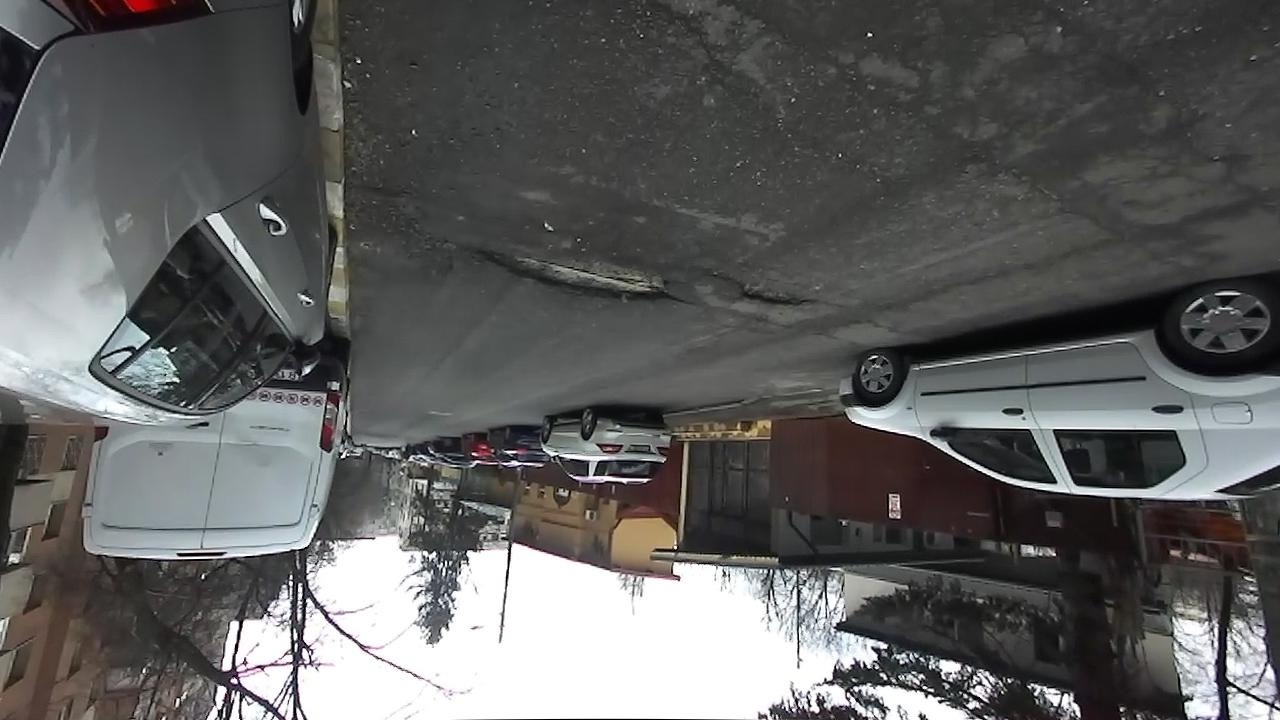pothole: (462, 241, 694, 309), (702, 268, 822, 312)
